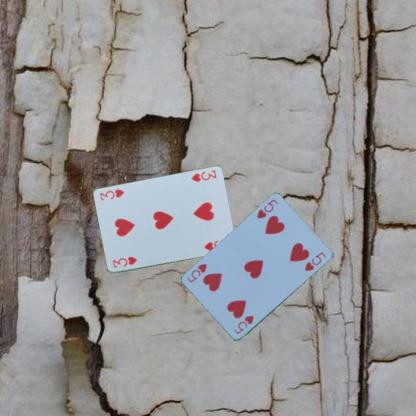3h: (188, 168, 218, 183), (110, 254, 138, 269)
5h: (254, 197, 279, 220), (231, 313, 255, 336)
